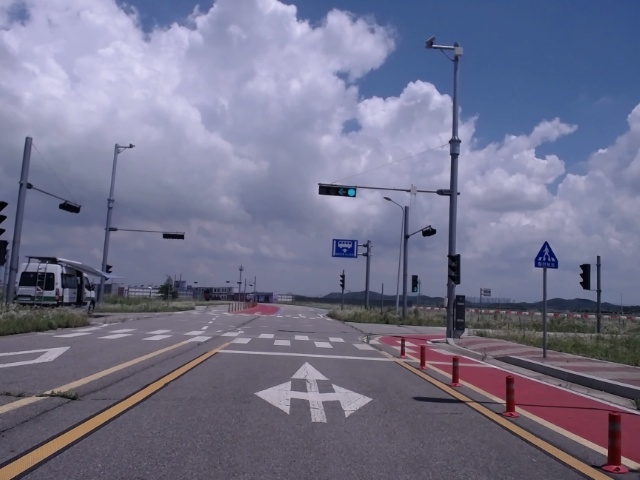all_green_4: (318, 181, 358, 196)
